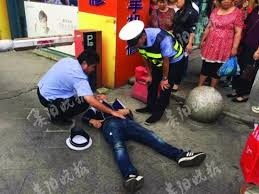falling: (77, 86, 211, 189)
